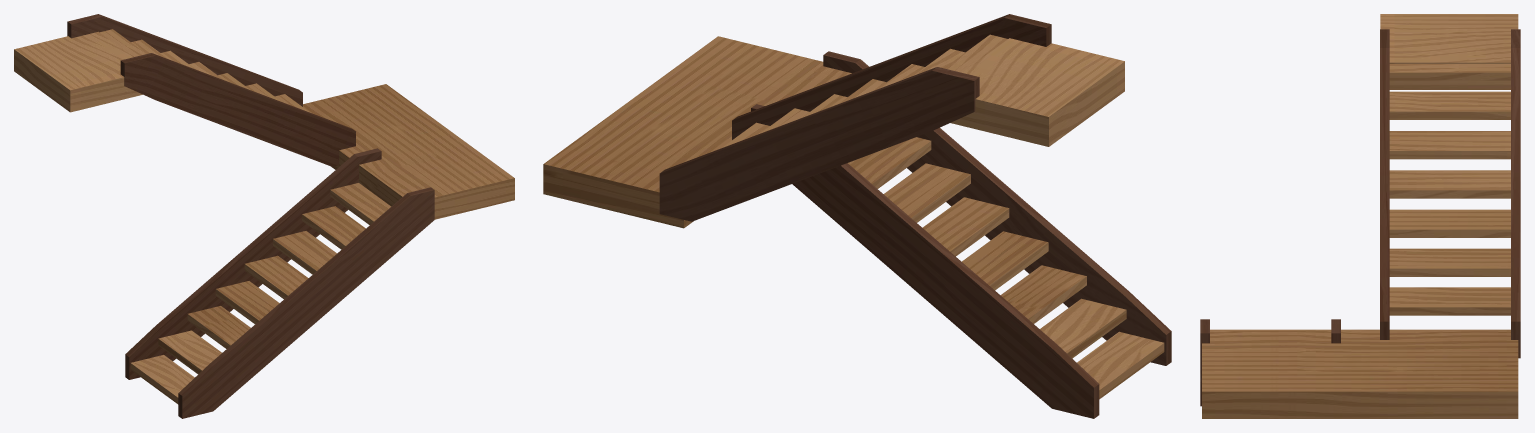
File: escalier.fbx
The picture shows the model from 3 angles, left to right: view 1: azimuth 30°, elevation 25°; view 2: azimuth 150°, elevation 25°; view 3: azimuth 270°, elevation 25°; orthographic projection. The views are drawn at different scales.
Visible parts, largest first — view 1: Cube; view 2: Cube; view 3: Cube.
Part boxes in pixels (x1,y1,x2,y2): Cube: [14, 14, 514, 418]; Cube: [543, 14, 1171, 418]; Cube: [1200, 14, 1520, 418].
Bounding box in the file's own units: 664 × 509 × 402.
